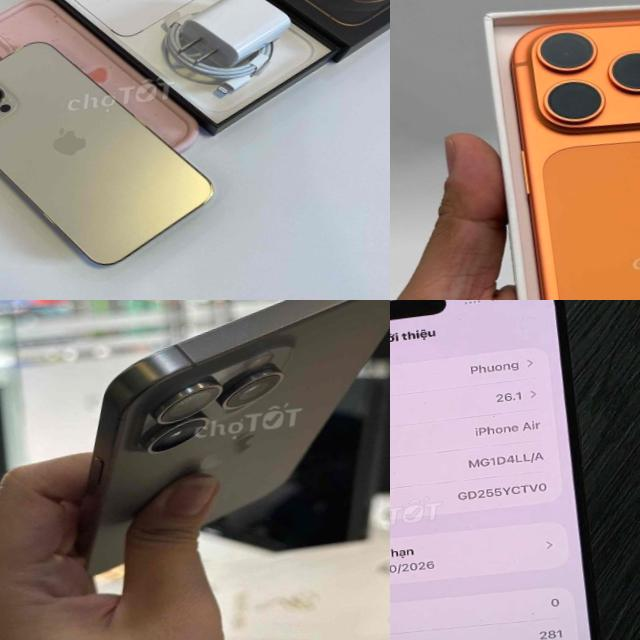gen_12_13: (0, 21, 224, 288)
gen_15: (50, 300, 390, 579)
gen_17: (390, 300, 640, 640), (495, 0, 640, 300)
